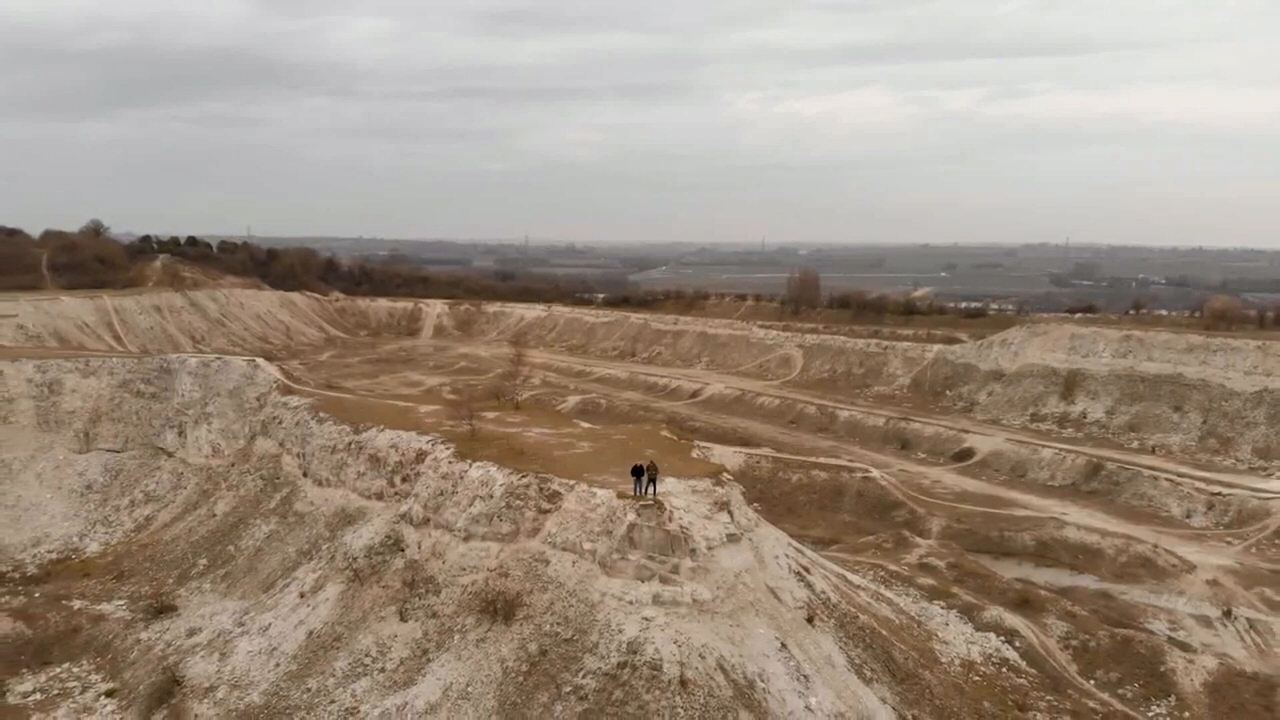insan: (625, 454, 648, 508), (639, 454, 659, 505)
